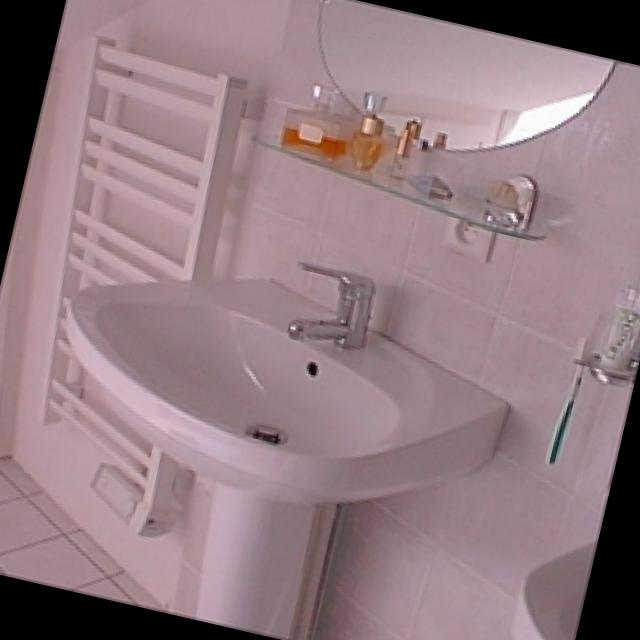faucet handle: (286, 257, 375, 346)
floor -X: (0, 453, 164, 605)
mirror crop: (315, 0, 613, 149)
perfume bottle: (274, 79, 353, 161), (346, 86, 386, 166)
sink basin: (64, 275, 507, 503)
wall outlets: (438, 204, 494, 258)
